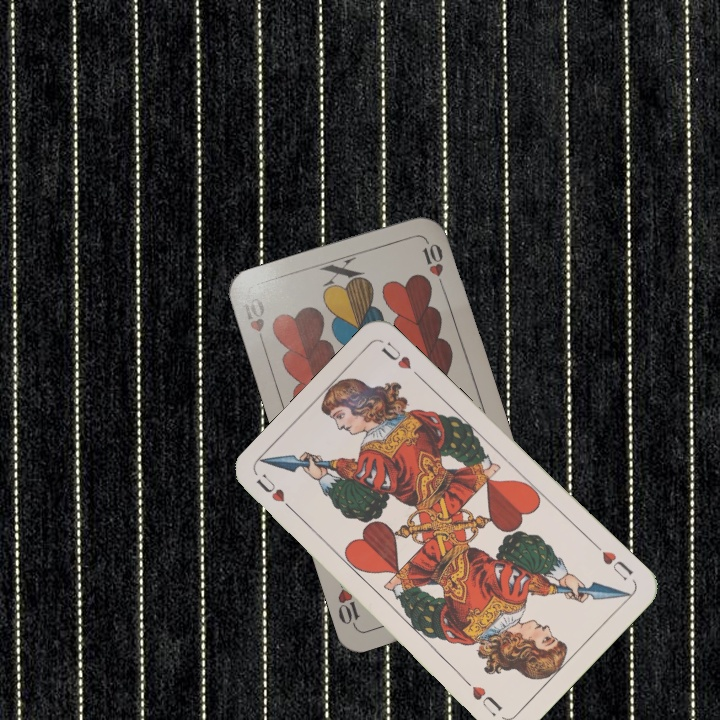H10: (238, 292, 269, 352)
HU: (252, 470, 300, 517), (590, 539, 636, 584)
